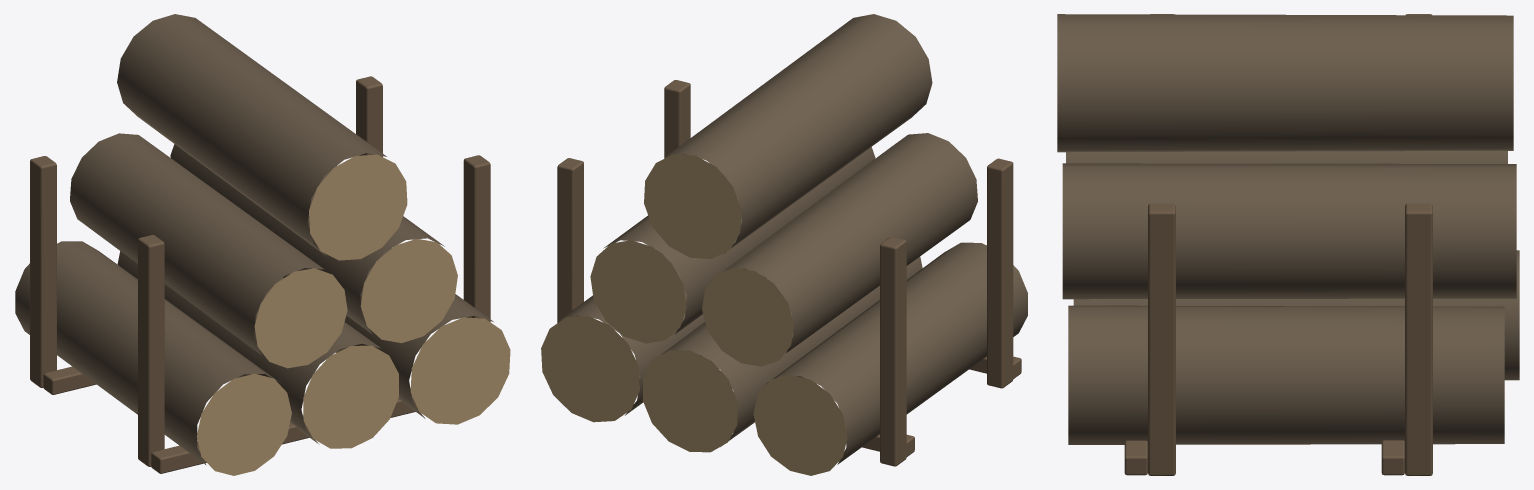
File: logs.glb
3 views of the same model, side by side, from view 1: azimuth 30°, elevation 25°; view 2: azimuth 150°, elevation 25°; view 3: azimuth 270°, elevation 25° (orthographic). The views are drawn at different scales.
Parts seen in each view (by area): view 1: bark, endgrain, planks-dark; view 2: bark, endgrain, planks-dark; view 3: bark, planks-dark.
Part boxes in pixels (left/top/right/bottom): bark: left=15, top=14, right=493, bottom=465; endgrain: left=196, top=154, right=510, bottom=475; planks-dark: left=30, top=76, right=490, bottom=473; bark: left=558, top=14, right=1027, bottom=464; endgrain: left=541, top=154, right=847, bottom=475; planks-dark: left=557, top=80, right=1021, bottom=466; bark: left=1057, top=14, right=1519, bottom=444; planks-dark: left=1124, top=14, right=1432, bottom=475.
Bounding box in the file's own units: 2.02 × 1.68 × 1.98.
